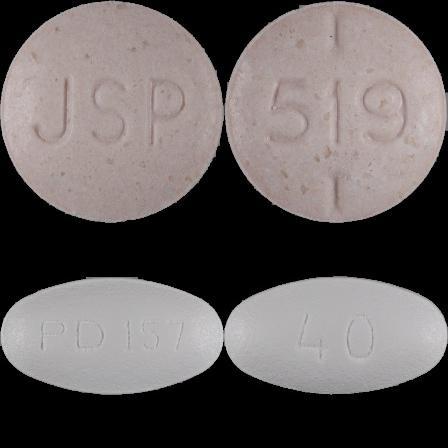55289-858: (0, 0, 224, 224)
